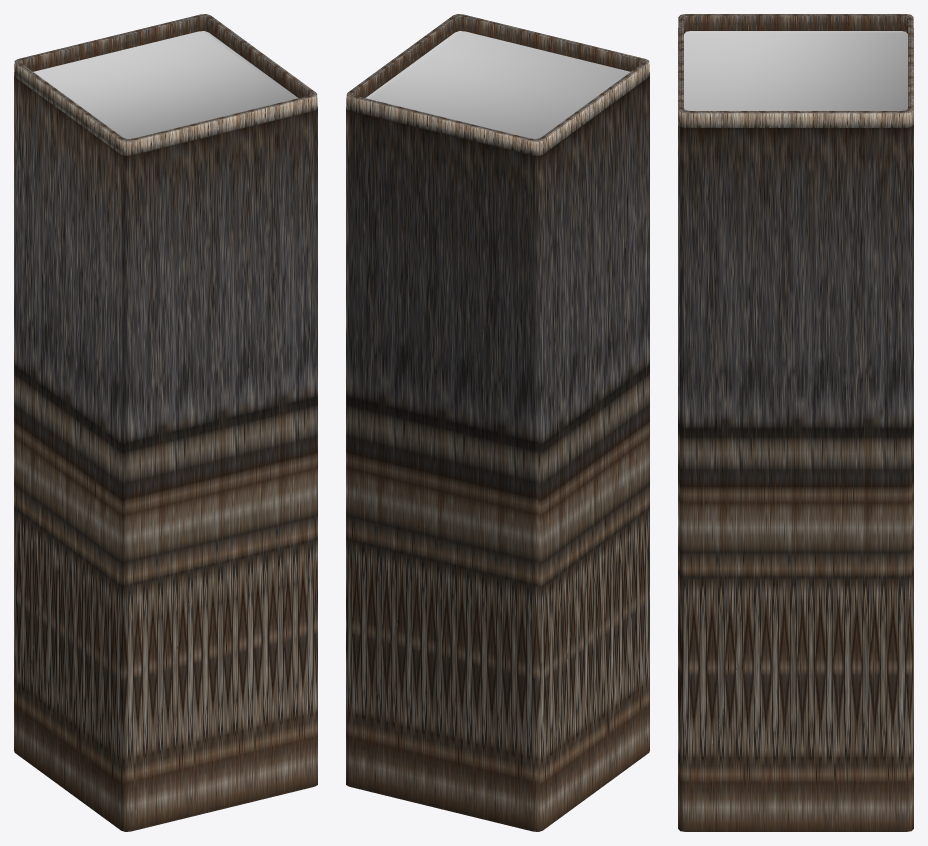
Rendered from prf_env_bld_BaseBuild_Tiny_xx.fbx.
The picture shows the model from 3 angles, left to right: view 1: azimuth 30°, elevation 25°; view 2: azimuth 150°, elevation 25°; view 3: azimuth 270°, elevation 25°; orthographic projection. The views are drawn at different scales.
Visible parts, largest first — view 1: prf_env_bld_BaseBuild_Tiny_xx; view 2: prf_env_bld_BaseBuild_Tiny_xx; view 3: prf_env_bld_BaseBuild_Tiny_xx.
Part boxes in pixels (left/top/right/bottom): prf_env_bld_BaseBuild_Tiny_xx: left=14, top=14, right=317, bottom=831; prf_env_bld_BaseBuild_Tiny_xx: left=346, top=14, right=649, bottom=831; prf_env_bld_BaseBuild_Tiny_xx: left=678, top=14, right=913, bottom=831.
Size of the model in its own units: 0.625 by 2.1 by 0.625.
